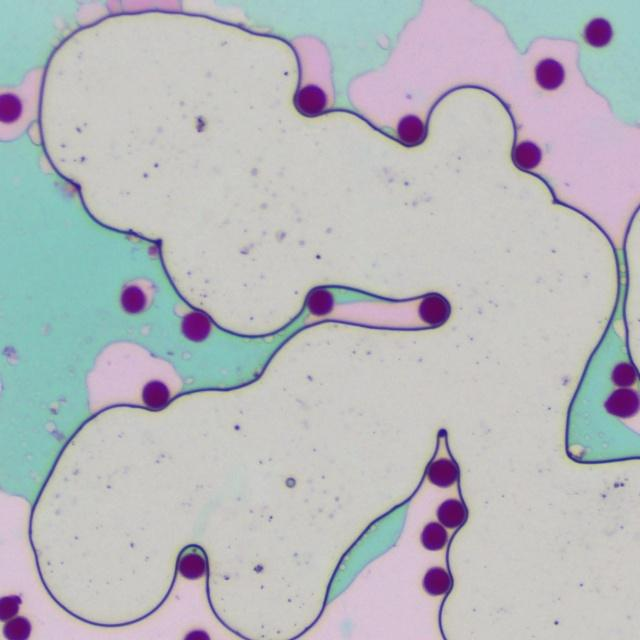viable: (419, 293, 450, 325), (605, 388, 639, 417), (296, 85, 326, 115), (182, 311, 210, 341), (536, 58, 563, 89), (437, 499, 465, 527), (585, 17, 612, 46), (142, 380, 169, 409), (428, 459, 457, 486), (514, 141, 541, 169), (398, 115, 424, 144), (423, 567, 450, 594), (179, 553, 205, 579), (307, 289, 333, 315), (421, 522, 446, 549), (122, 285, 146, 313), (0, 93, 22, 123), (3, 617, 30, 639), (612, 363, 636, 386), (0, 596, 20, 620), (184, 630, 209, 639)
